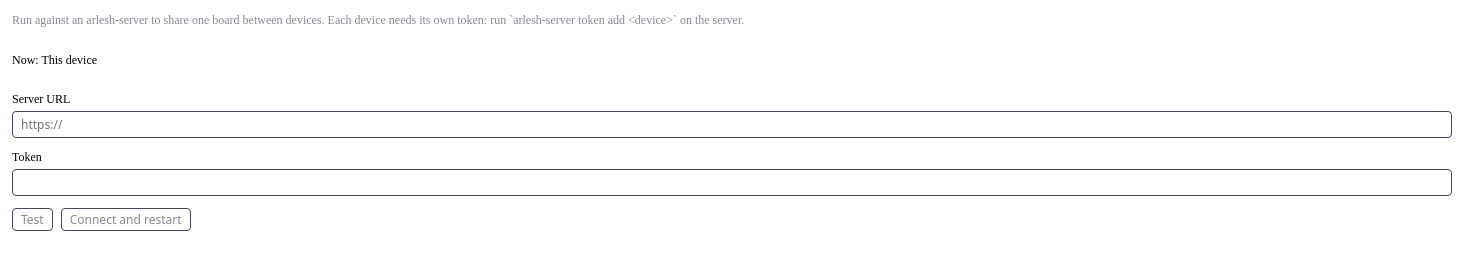
Test: ServerPage › names the side to update and does not connect to an incompatible server
Type "http://box:4750" into the field labelled "Server URL". click: coordinates (732, 124)
box: [12, 111, 1452, 138]
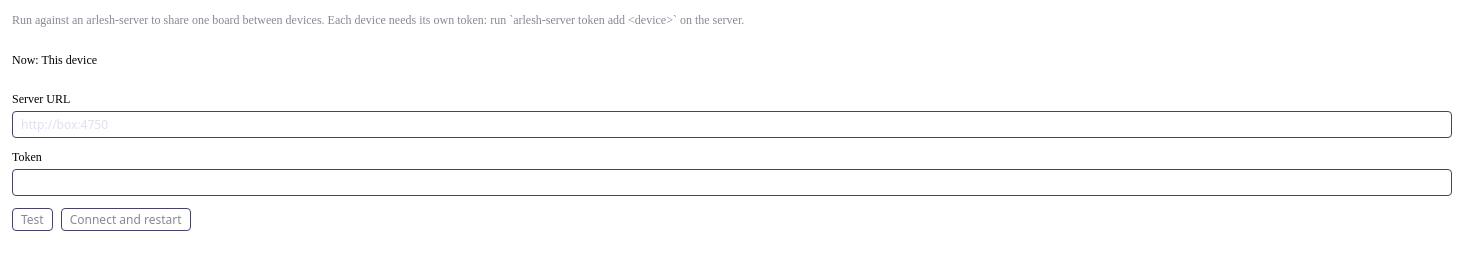
Type "secret" into the password field labelled "Token". click: coordinates (732, 182)
box: [12, 169, 1452, 196]
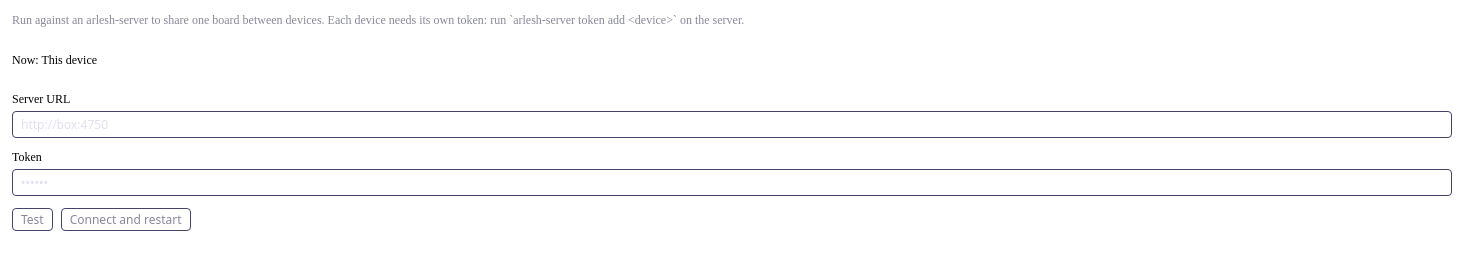
Click the button "Test". click: coordinates (32, 219)
box: [12, 208, 53, 231]
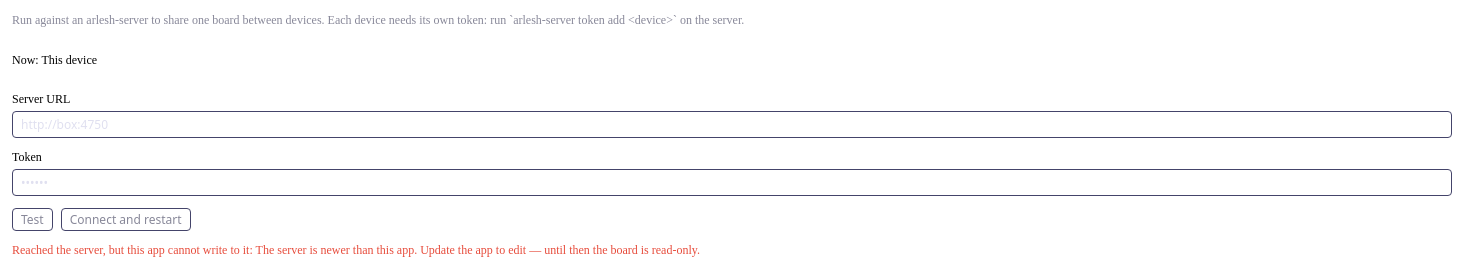
Expected: the button "Connect and restart" is disabled, [61, 208, 191, 231]
Now the message shows "Update the app", box [12, 243, 700, 257]
